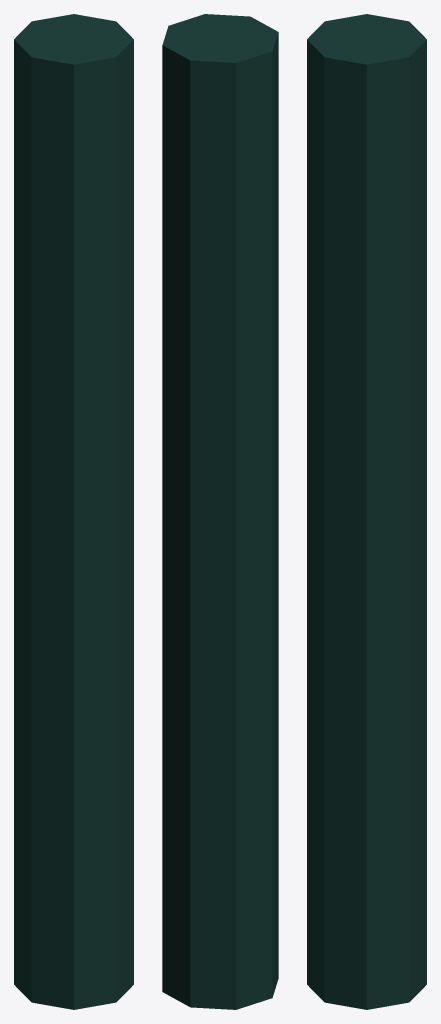
Rendered from pole.glb.
3 views of the same model, side by side, from view 1: azimuth 90°, elevation 25°; view 2: azimuth 150°, elevation 25°; view 3: azimuth 270°, elevation 25° (orthographic).
Visible parts, largest first — view 1: NEW_FL3_pole; view 2: NEW_FL3_pole; view 3: NEW_FL3_pole.
Boxes of the visible parts, x1,y1,x2,y2 form: NEW_FL3_pole: (14, 14, 133, 1009); NEW_FL3_pole: (162, 14, 278, 1009); NEW_FL3_pole: (307, 14, 426, 1009).
Bounding box in the file's own units: 0.115 × 1 × 0.115.
